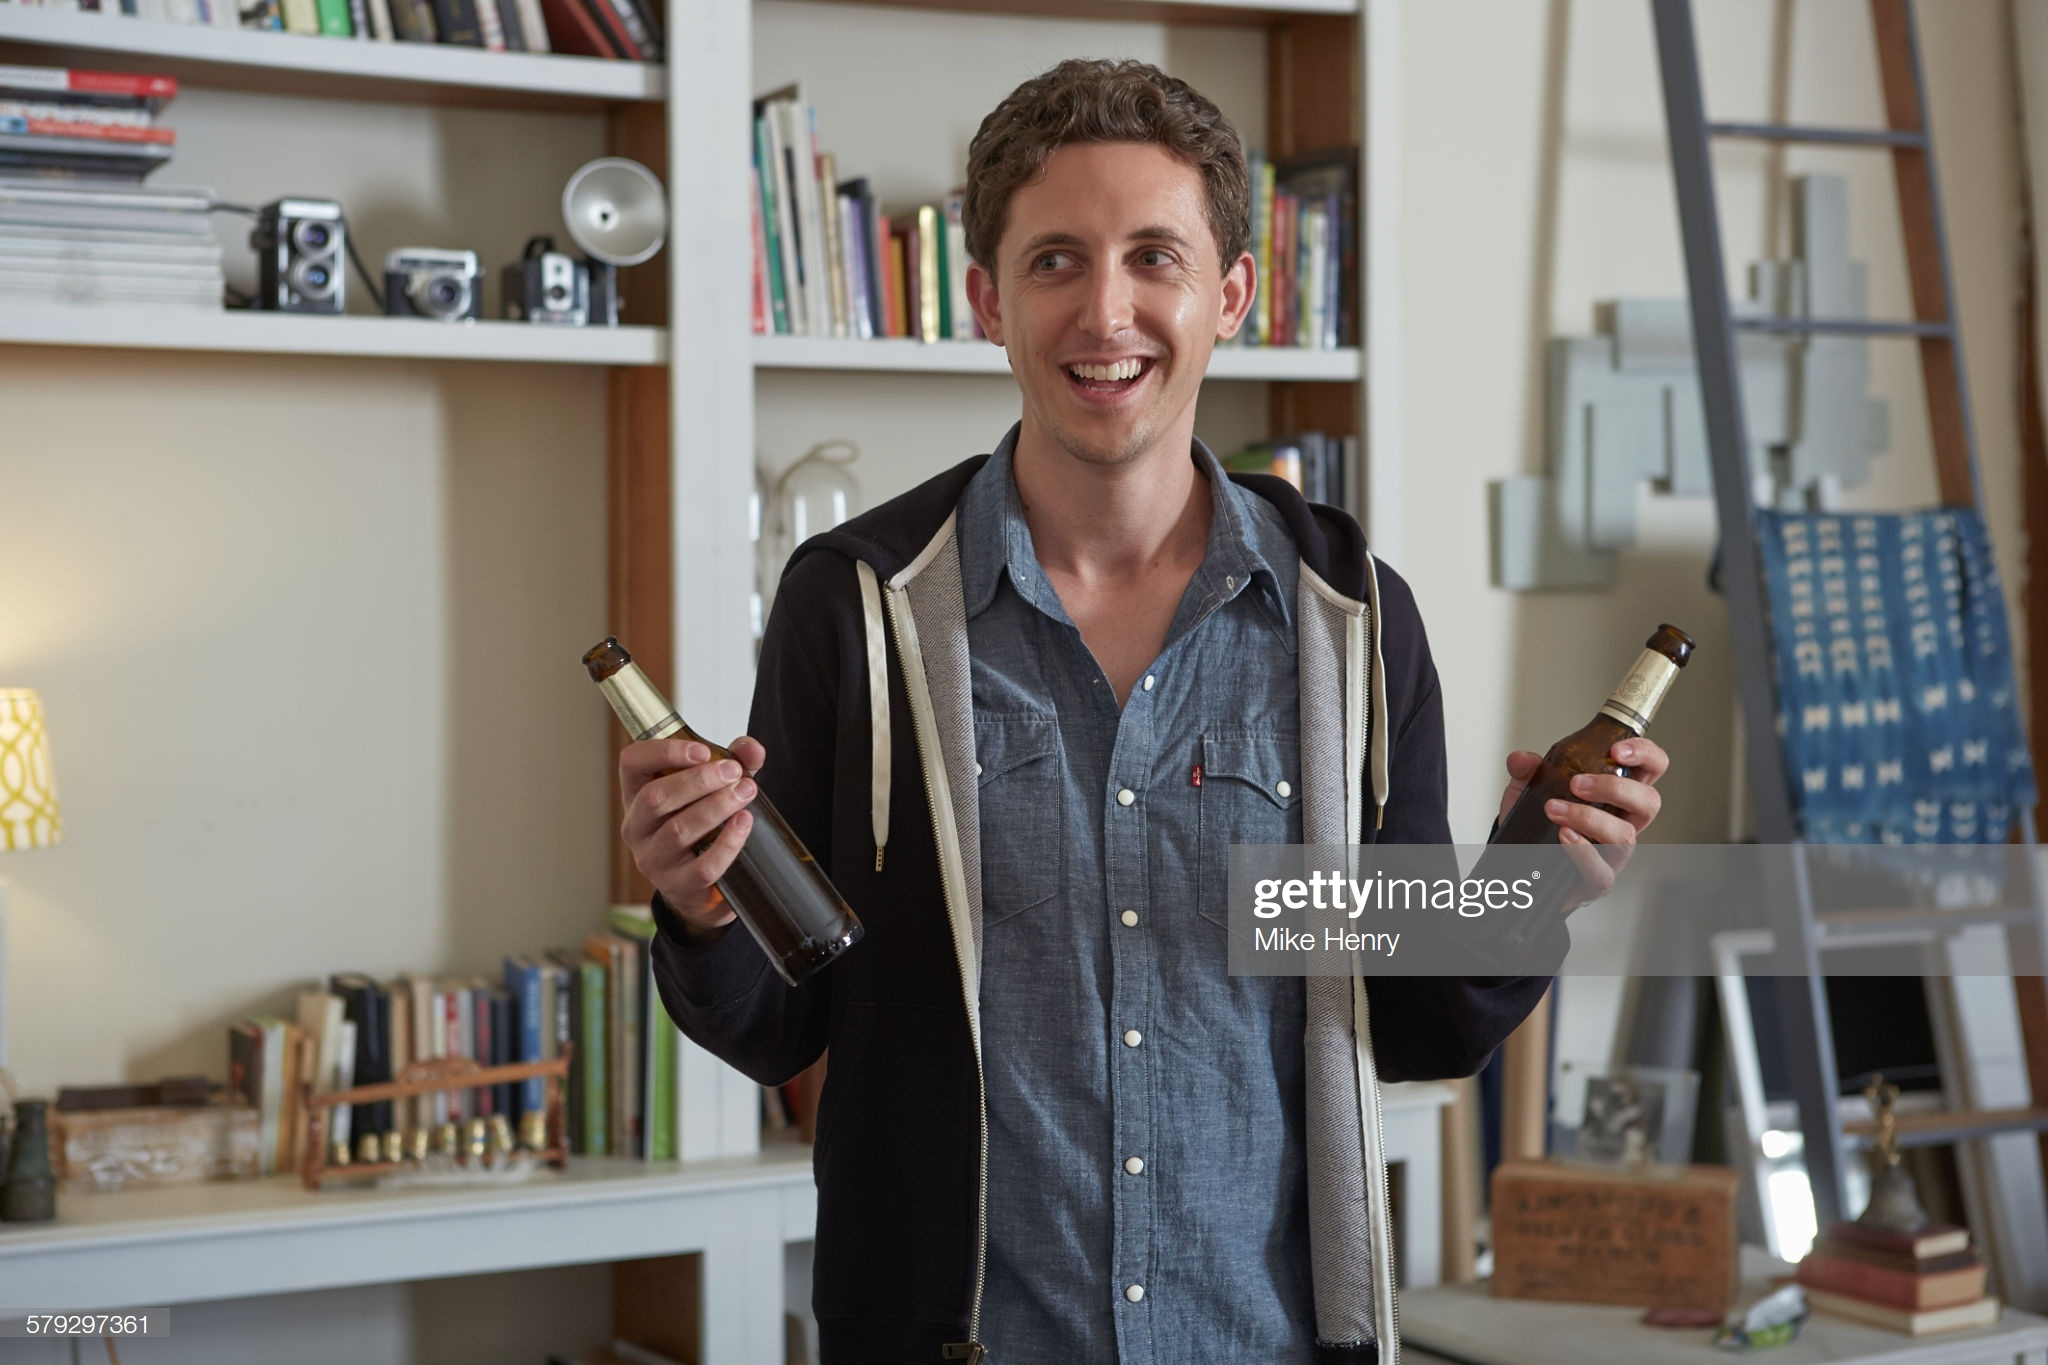beerBottle: (582, 631, 847, 970), (1472, 625, 1696, 951)
